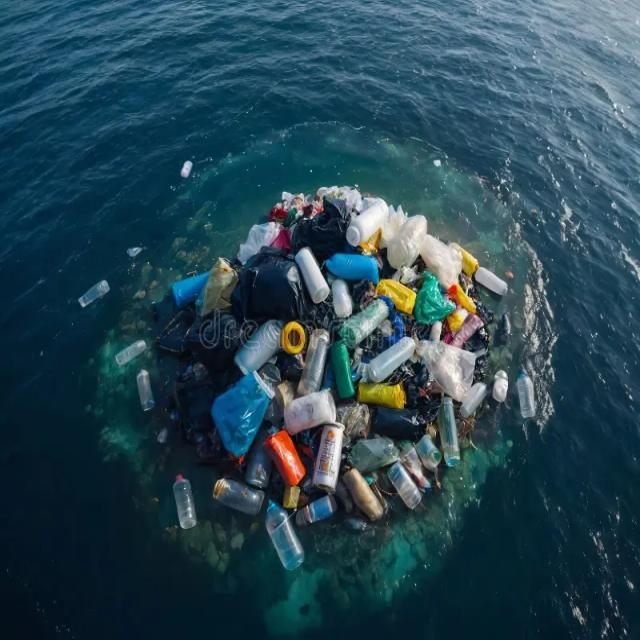plastic watse: (88, 125, 531, 512), (142, 188, 510, 570)
